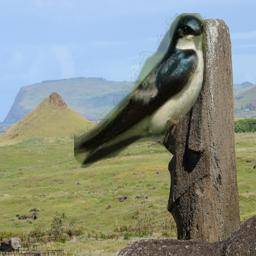Swallow: (74, 13, 206, 168)
